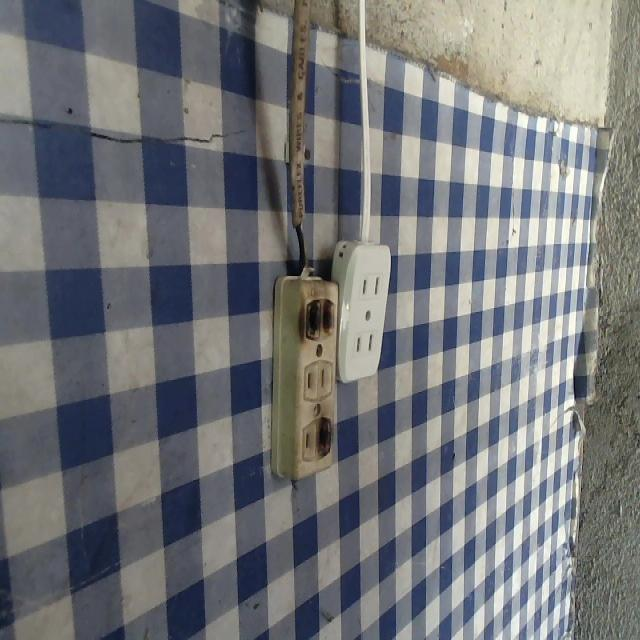-: (298, 295, 337, 337), (316, 412, 336, 463)
